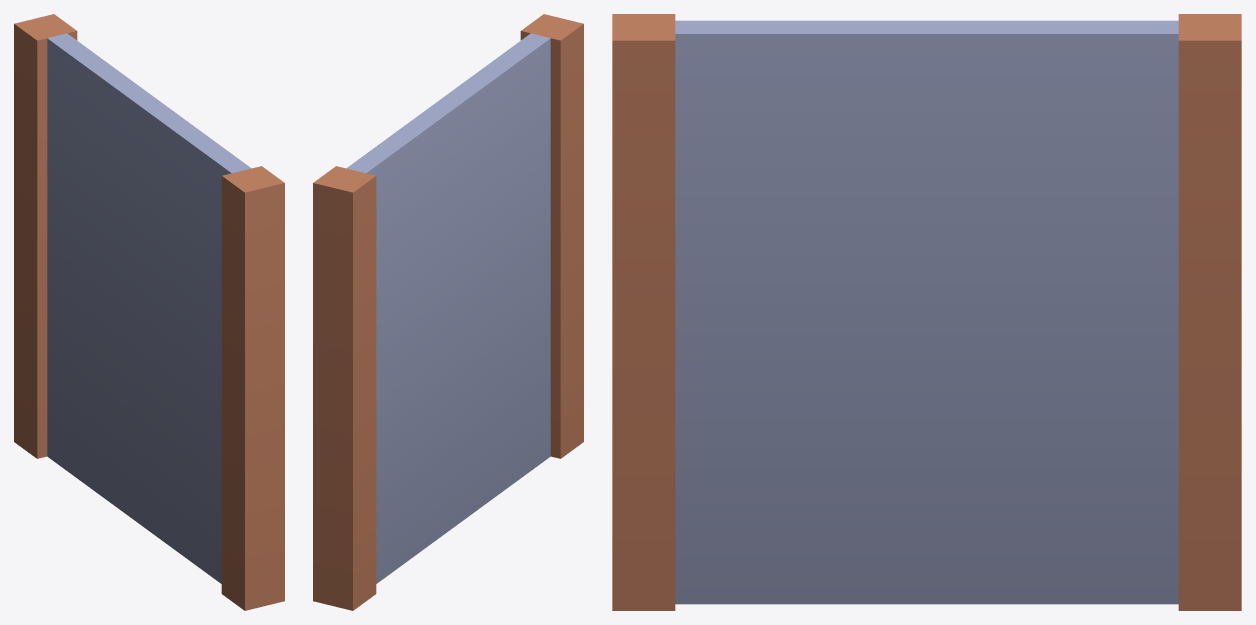
Rendered from wall.obj.
3 views of the same model, side by side, from view 1: azimuth 30°, elevation 25°; view 2: azimuth 150°, elevation 25°; view 3: azimuth 270°, elevation 25° (orthographic). The views are drawn at different scales.
Parts seen in each view (by area): view 1: wall; view 2: wall; view 3: wall.
Boxes of the visible parts, x1,y1,x2,y2 form: wall: (14,14,284,610); wall: (313,14,583,610); wall: (612,14,1241,610).
Bounding box in the file's own units: 0.1 × 1 × 1.
1 material, 1 textured.
